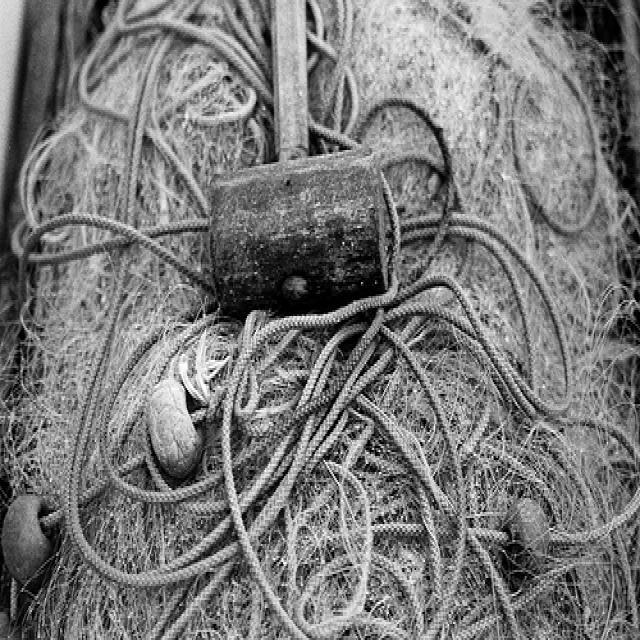hammer: (193, 0, 415, 321)
